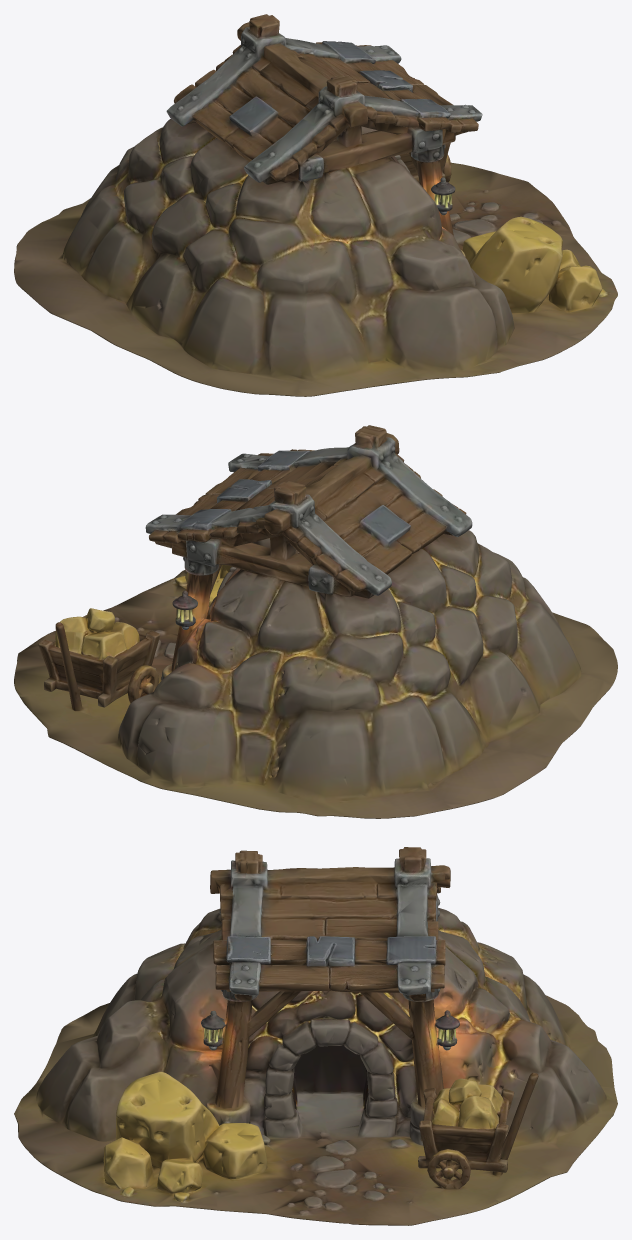
File: mine-b.glb
3 views of the same model, one above another, from view 1: azimuth 30°, elevation 25°; view 2: azimuth 150°, elevation 25°; view 3: azimuth 270°, elevation 25° (orthographic). The views are drawn at different scales.
Parts seen in each view (by area): view 1: tripo_node_a46897a7-eb59-42c6-ae0b-ca4e524bd7a9; view 2: tripo_node_a46897a7-eb59-42c6-ae0b-ca4e524bd7a9; view 3: tripo_node_a46897a7-eb59-42c6-ae0b-ca4e524bd7a9.
Part boxes in pixels (x1,y1,x2,y2): tripo_node_a46897a7-eb59-42c6-ae0b-ca4e524bd7a9: [14, 14, 617, 396]; tripo_node_a46897a7-eb59-42c6-ae0b-ca4e524bd7a9: [14, 425, 617, 818]; tripo_node_a46897a7-eb59-42c6-ae0b-ca4e524bd7a9: [14, 847, 617, 1225].
Size of the model in its own units: 0.9939 by 0.4471 by 1.
1 material, 1 textured.
